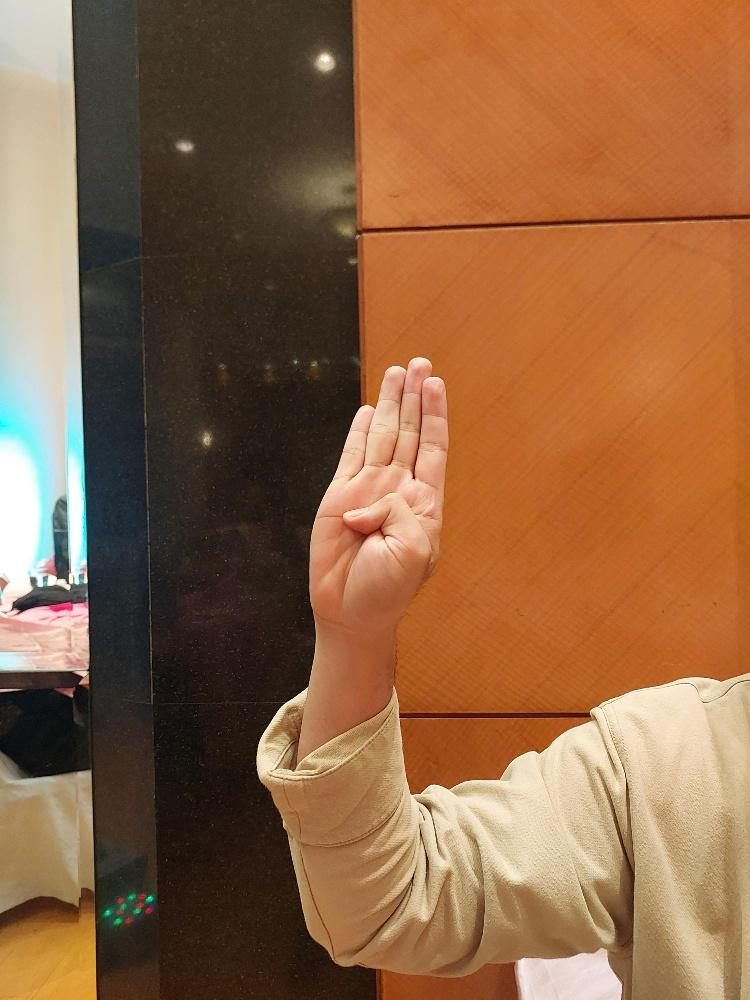b: (307, 355, 449, 630)
